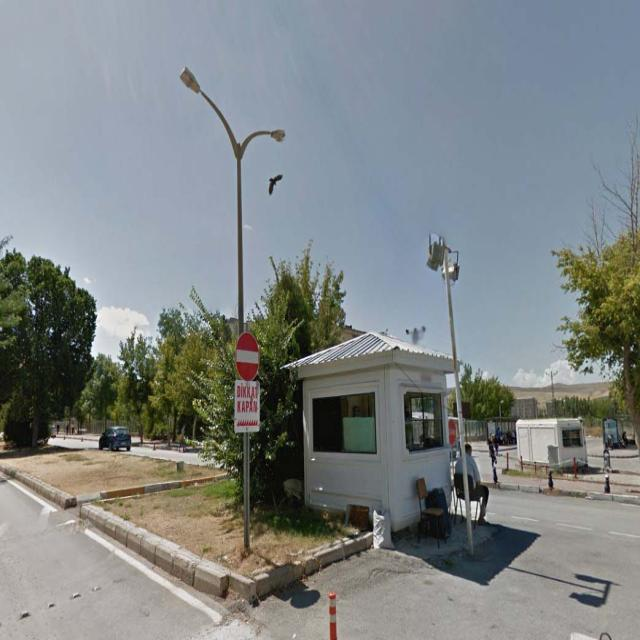girisyok: (234, 332, 260, 381)
